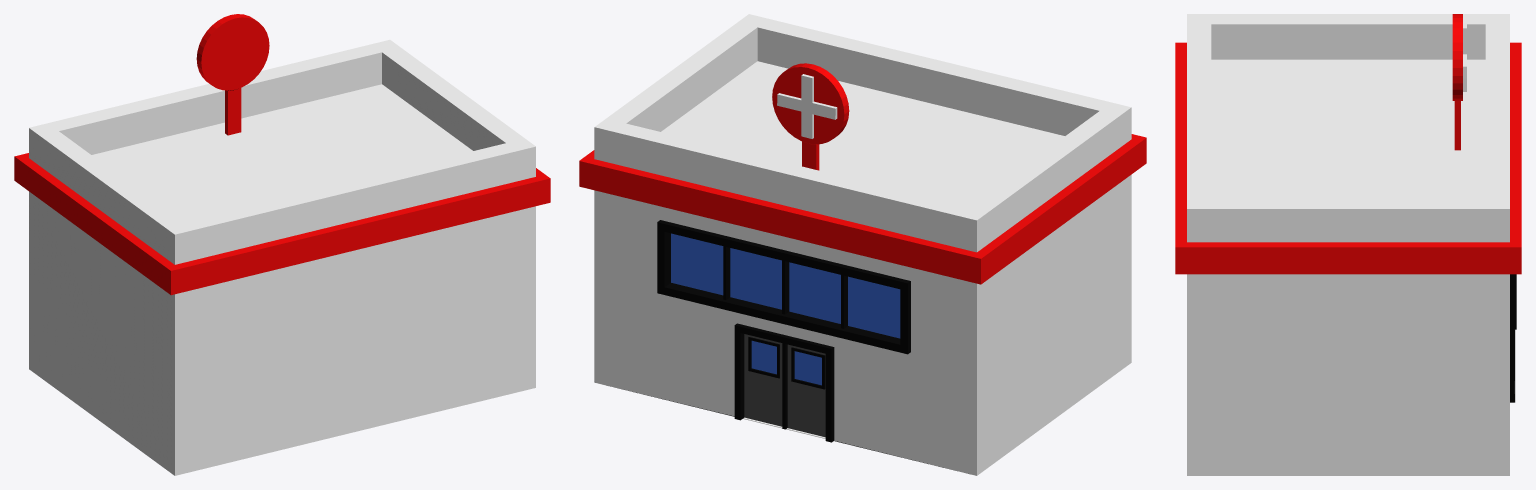
Rendered from Hospital.fbx.
3 renders of one model, left to right at view 1: azimuth 30°, elevation 25°; view 2: azimuth 150°, elevation 25°; view 3: azimuth 270°, elevation 25°, orthographic. The views are drawn at different scales.
Parts seen in each view (by area): view 1: Cube; view 2: Cube; view 3: Cube.
Part boxes in pixels (x1=…): Cube: x1=14, y1=14, x2=550, y2=475; Cube: x1=579, y1=14, x2=1146, y2=475; Cube: x1=1175, y1=14, x2=1521, y2=475.
Size of the model in its own units: 2101 by 1723 by 1501.
